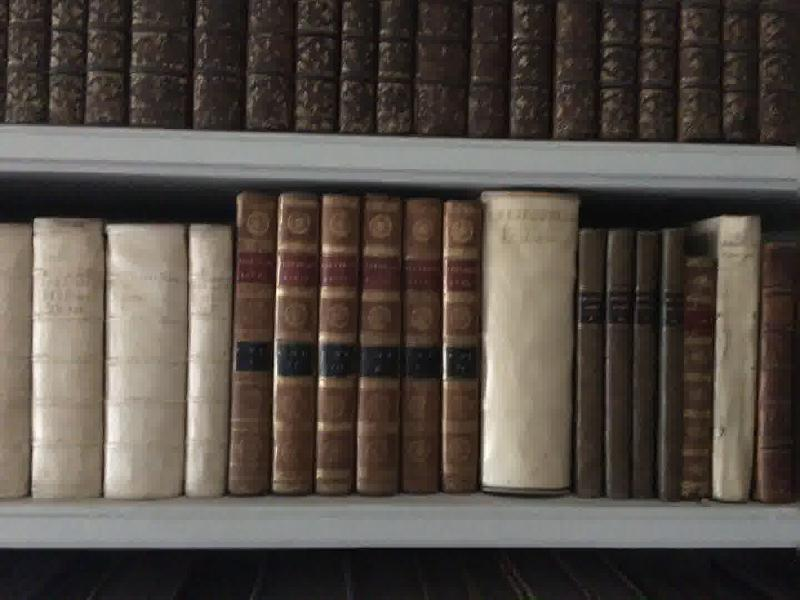Kk4-14: (485, 190, 574, 506)
Kk4-15_16: (577, 226, 636, 505)
Kk4-17_18: (636, 225, 688, 509)
Kk4-19: (690, 252, 717, 504)
Kk4-20: (714, 215, 758, 506)
Kk4-3_7: (1, 217, 234, 509)
Kk4-8_13: (238, 195, 481, 493)
